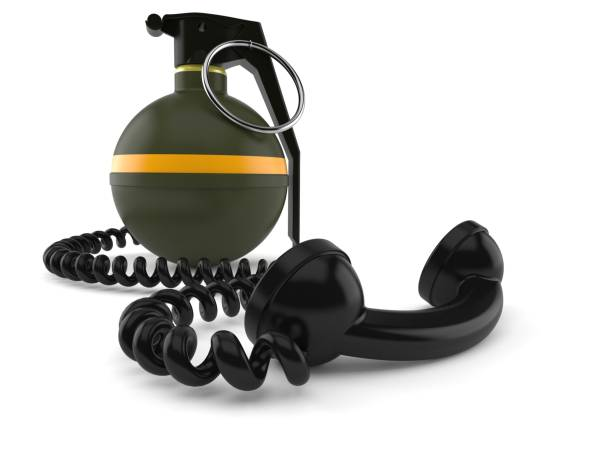e1: (109, 14, 307, 262)
